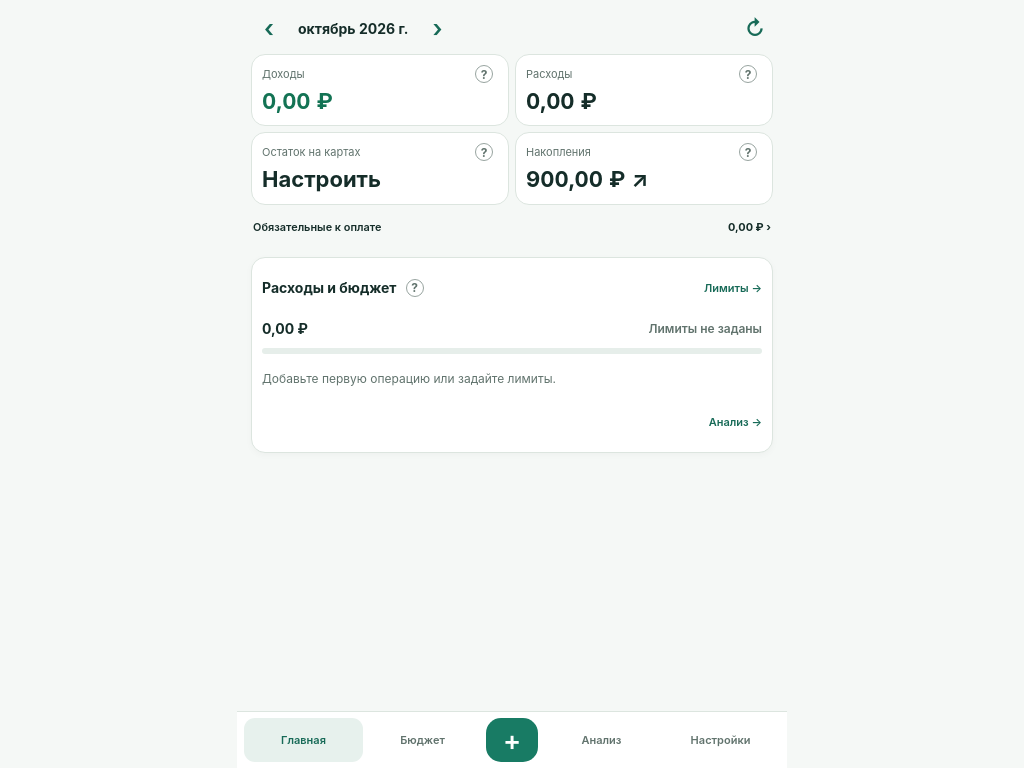
редактирует снятие из общего журнала и обновляет баланс
Click the button "Анализ".
click(602, 740)  # box [542,718,661,762]
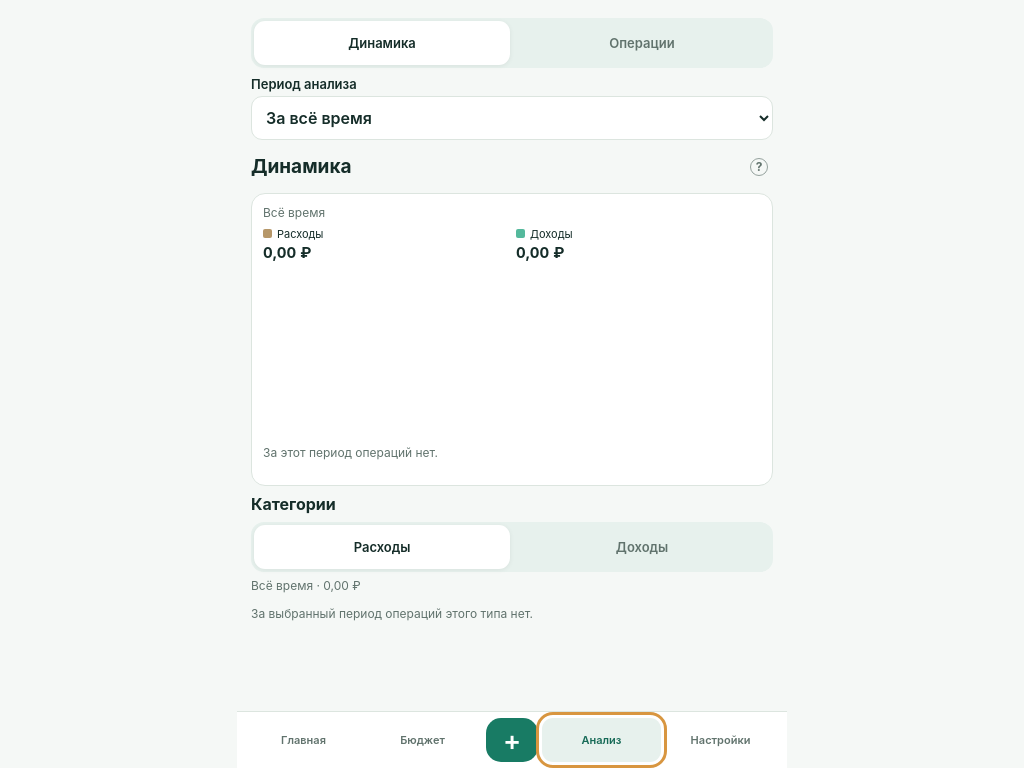
Click the button "Операции".
click(642, 43)  # box [514,21,770,65]
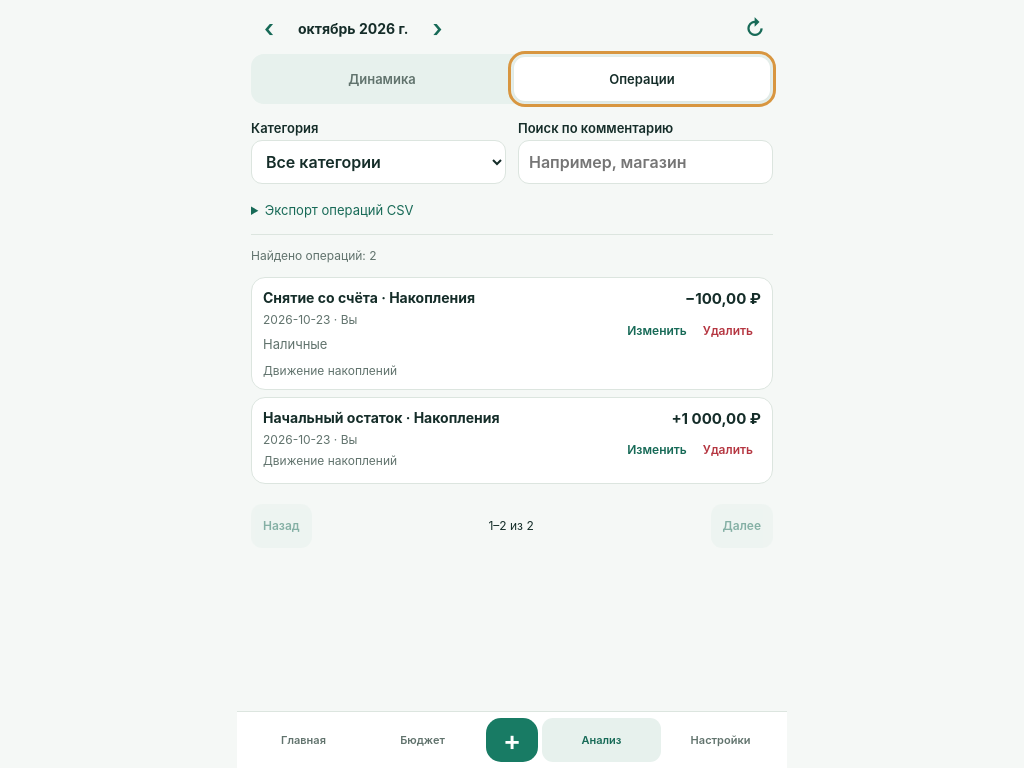
Click the button "Изменить" below "100,00 ₽".
click(657, 330)  # box [619,308,695,352]
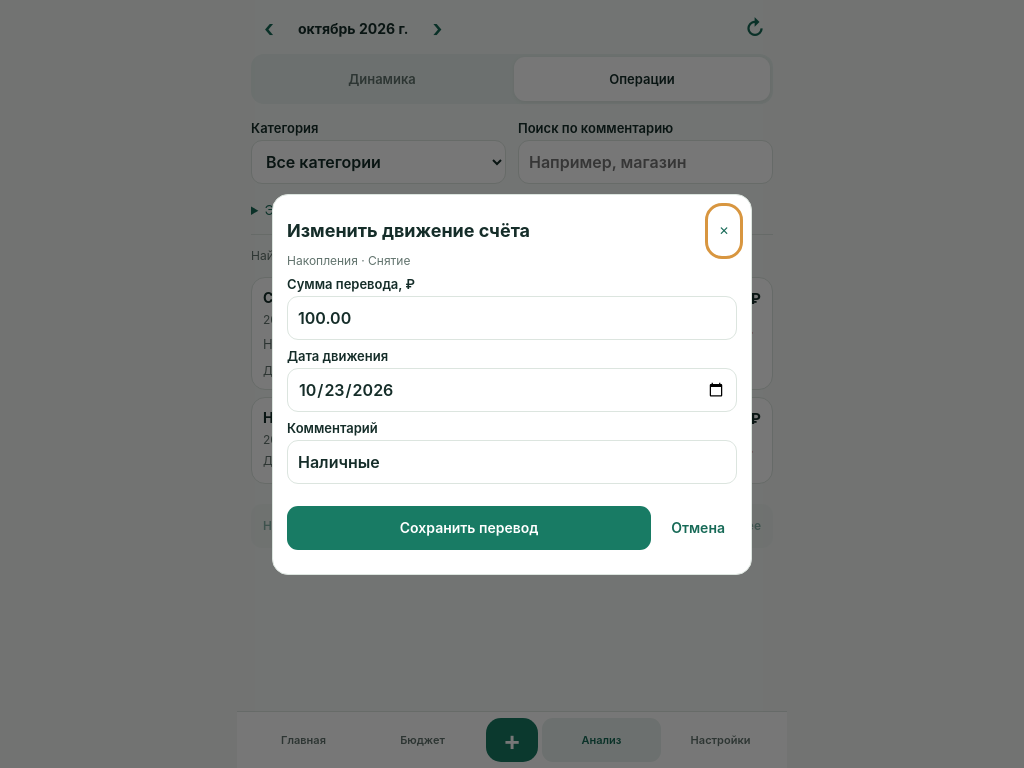
Replace the text in the field labelled "Сумма перевода, ₽" with "150.50" at [512, 318], box [287,296,737,340]
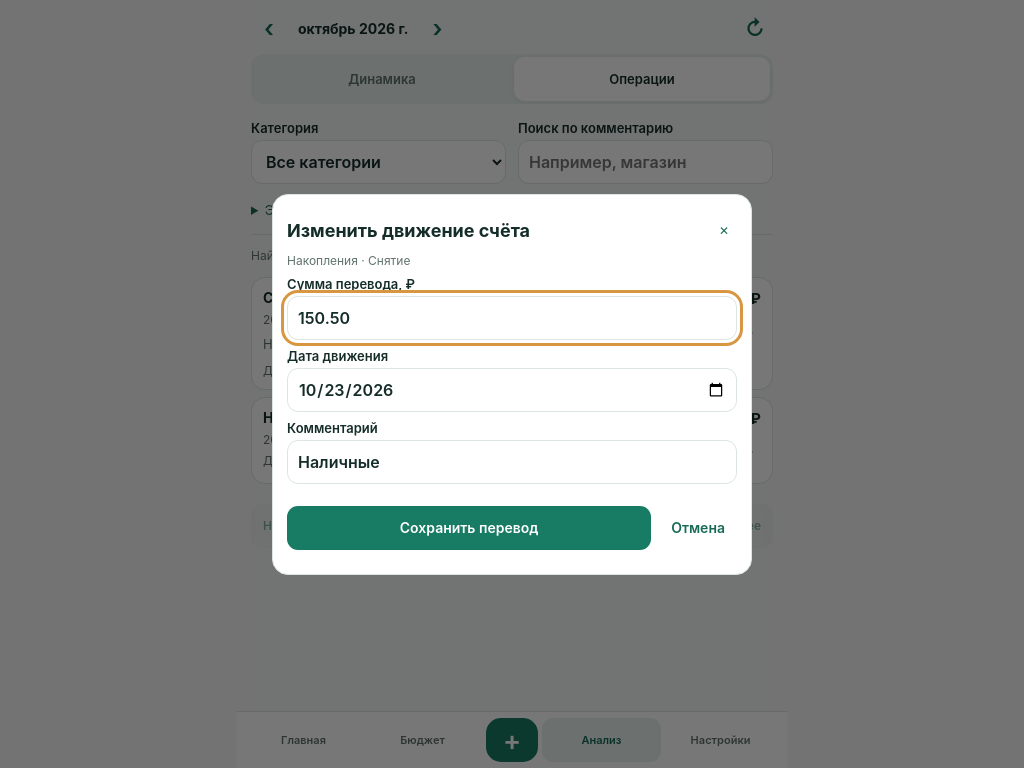
Click the button "Сохранить перевод".
click(469, 528)  # box [287,506,651,550]
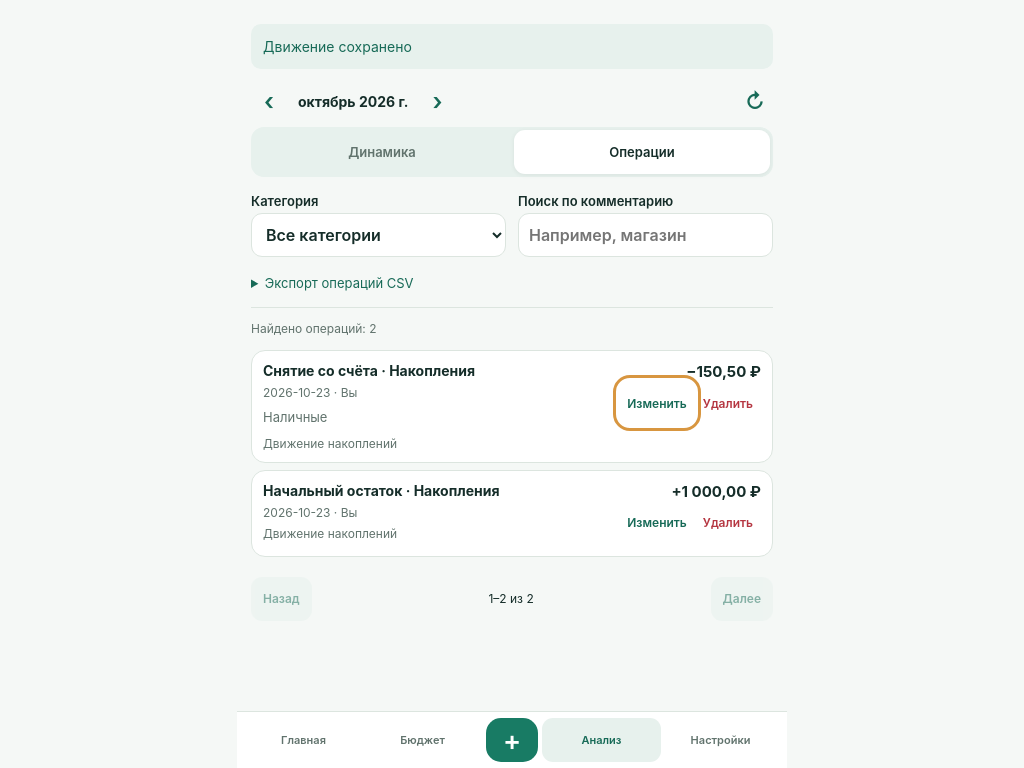
Now the text "Движение сохранено" is shown, box [251,24,773,69]
